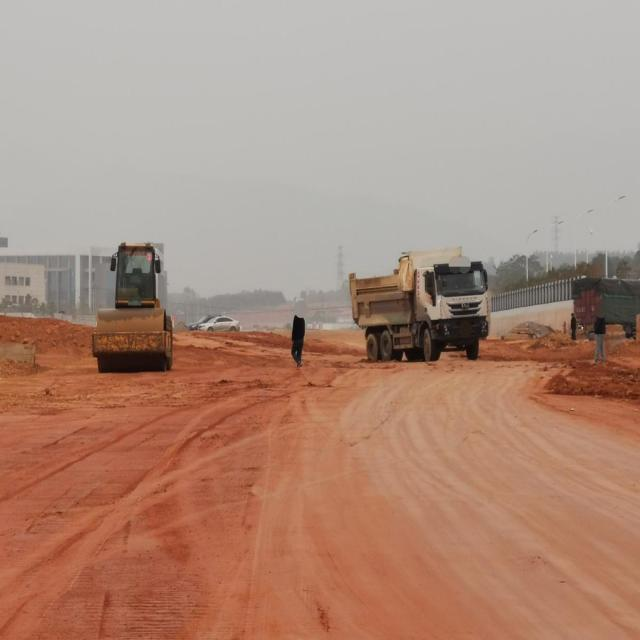truck: (338, 237, 506, 370)
